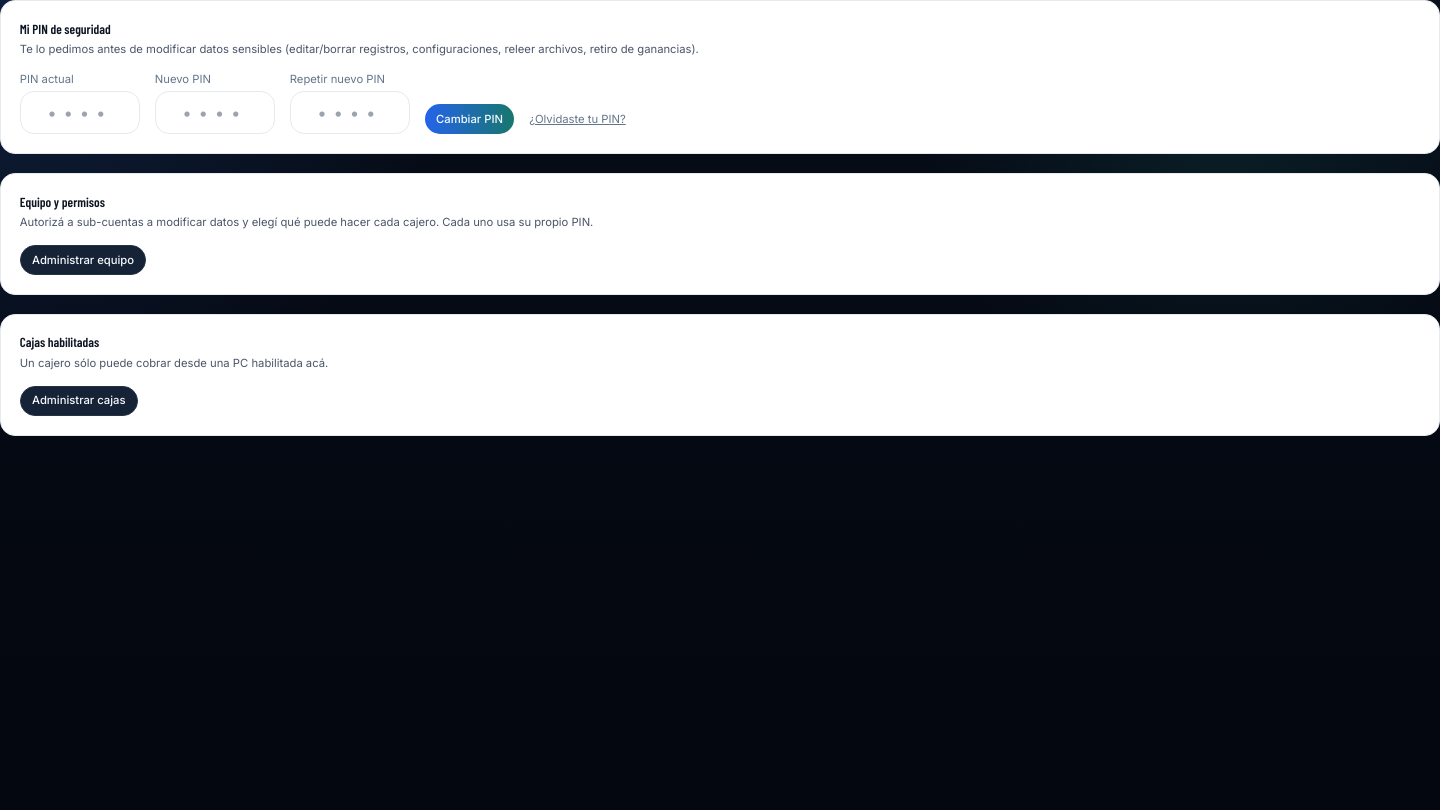
Test: Equipo — cajeros › muestra al cajero con sus permisos de caja, sin la casilla de modificar datos
The image size is (1440, 810).
Click the button "Administrar equipo" at x=83, y=260, box 20,245 -> 146,275
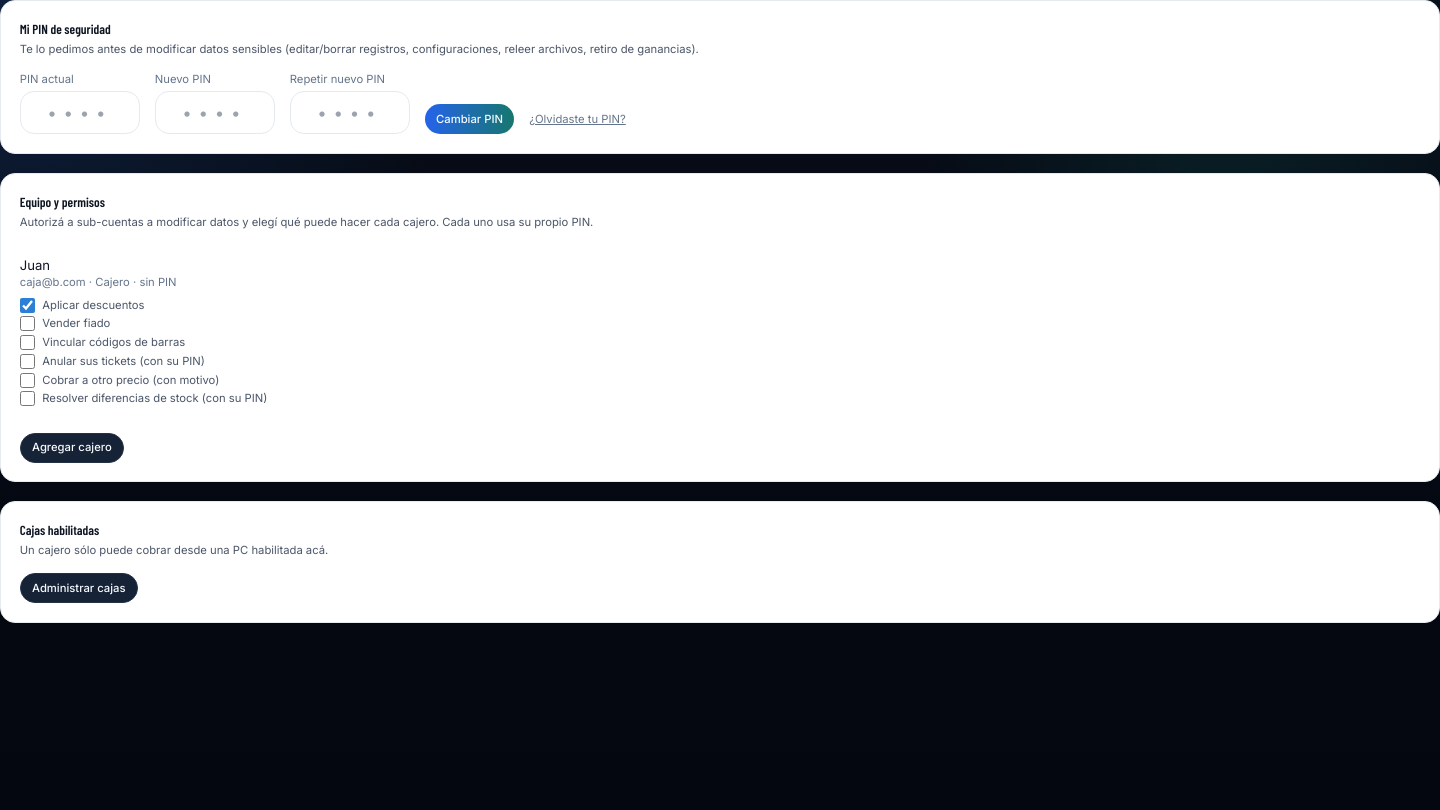
Result: the text "Juan" is shown at 20,257 -> 50,273
Result: the text "caja@b.com · Cajero · sin PIN" is shown at 20,275 -> 177,290
Result: the checkbox labelled "Aplicar descuentos" is checked at 20,298 -> 35,312
